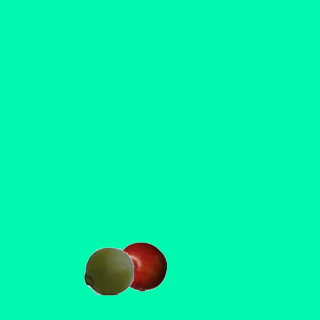Apple Braeburn: (116, 241, 166, 291)
Grape White 4: (83, 245, 133, 295)
